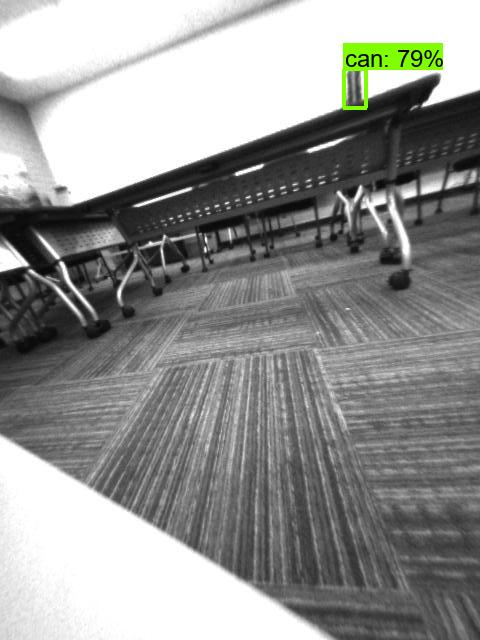can: (343, 62, 366, 106)
